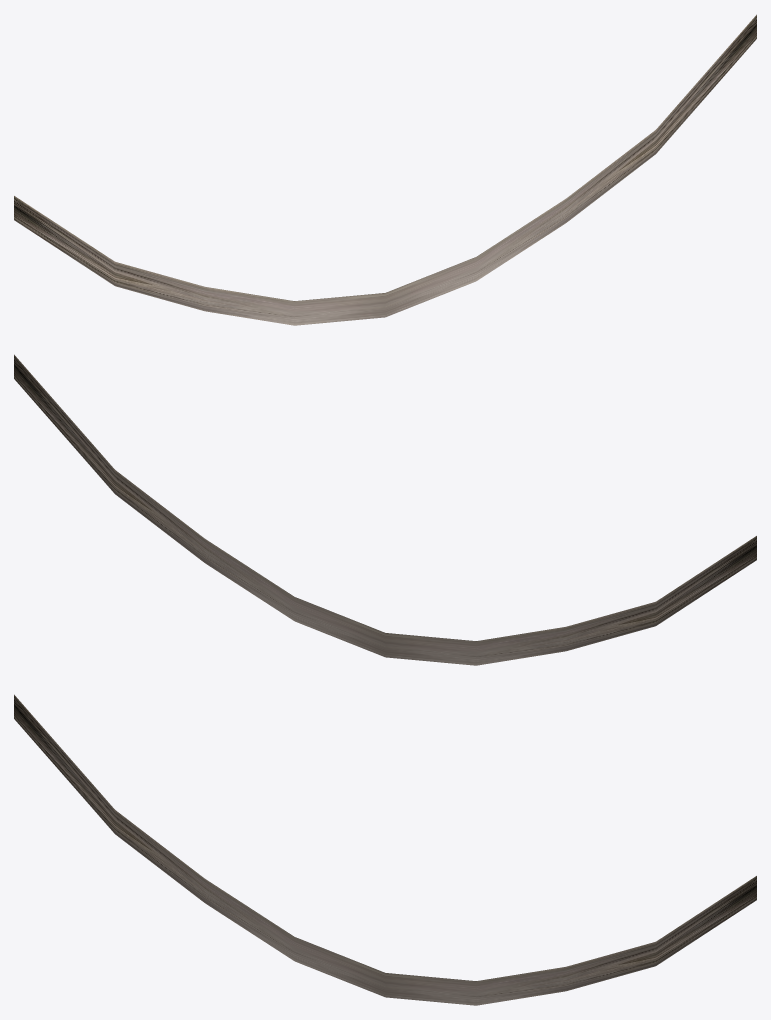
Rendered from pir_m_prp_hol_decoRibbon_winter08.fbx.
3 views of the same model, one above another, from view 1: azimuth 30°, elevation 25°; view 2: azimuth 150°, elevation 25°; view 3: azimuth 330°, elevation 25° (orthographic).
Visible parts, largest first — view 1: decoRibbon_winter08; view 2: decoRibbon_winter08; view 3: decoRibbon_winter08.
Boxes of the visible parts, x1,y1,x2,y2 form: decoRibbon_winter08: [14, 14, 756, 325]; decoRibbon_winter08: [14, 354, 756, 665]; decoRibbon_winter08: [14, 694, 756, 1005].
Bounding box in the file's own units: 814 × 223 × 3.63e-05.
Materials: 1 (1 with a texture image).
